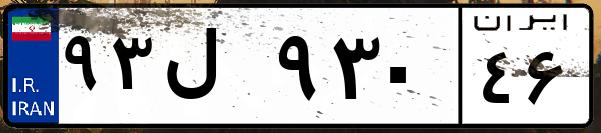0: (385, 28, 445, 110)
3: (330, 28, 385, 110), (110, 28, 158, 98)
4: (475, 38, 525, 113)
6: (525, 38, 570, 115)
9: (270, 28, 330, 110), (57, 26, 110, 100)
ل: (158, 20, 270, 120)
